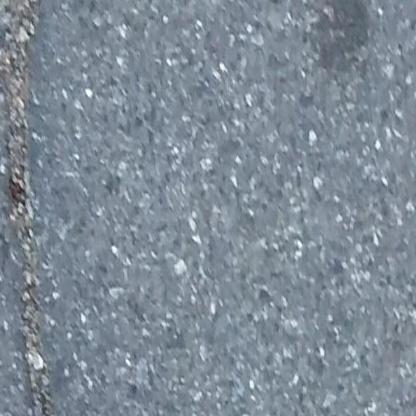Cracks: (8, 0, 60, 416)
